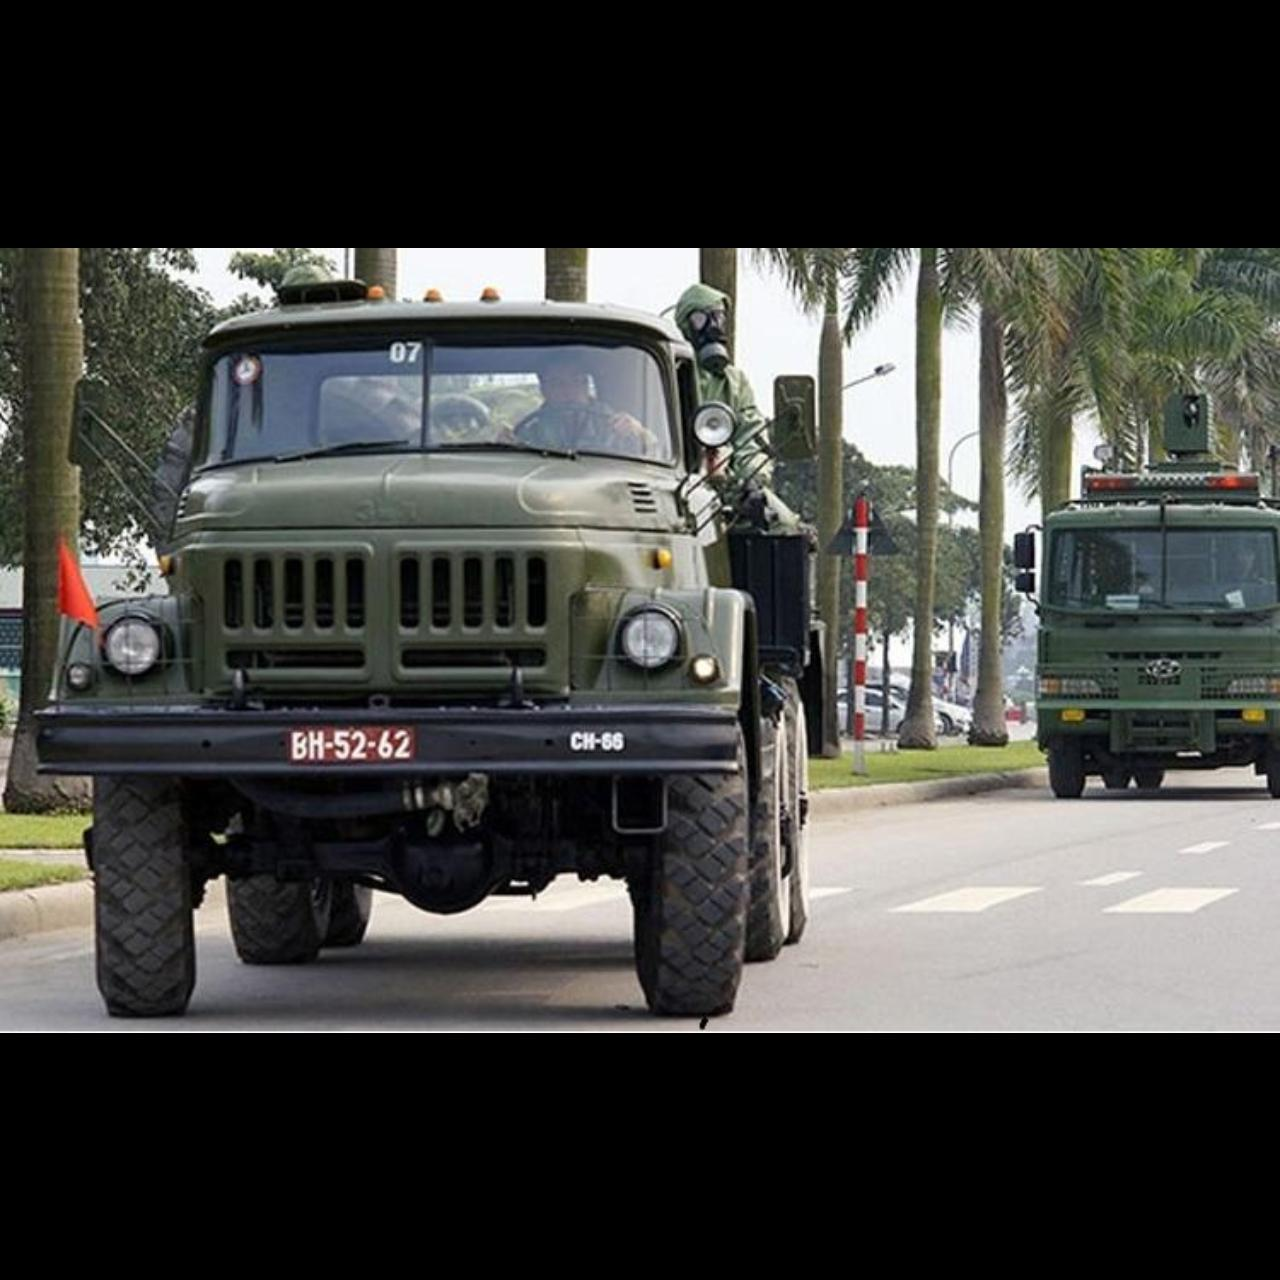bienso: (283, 720, 419, 764)
